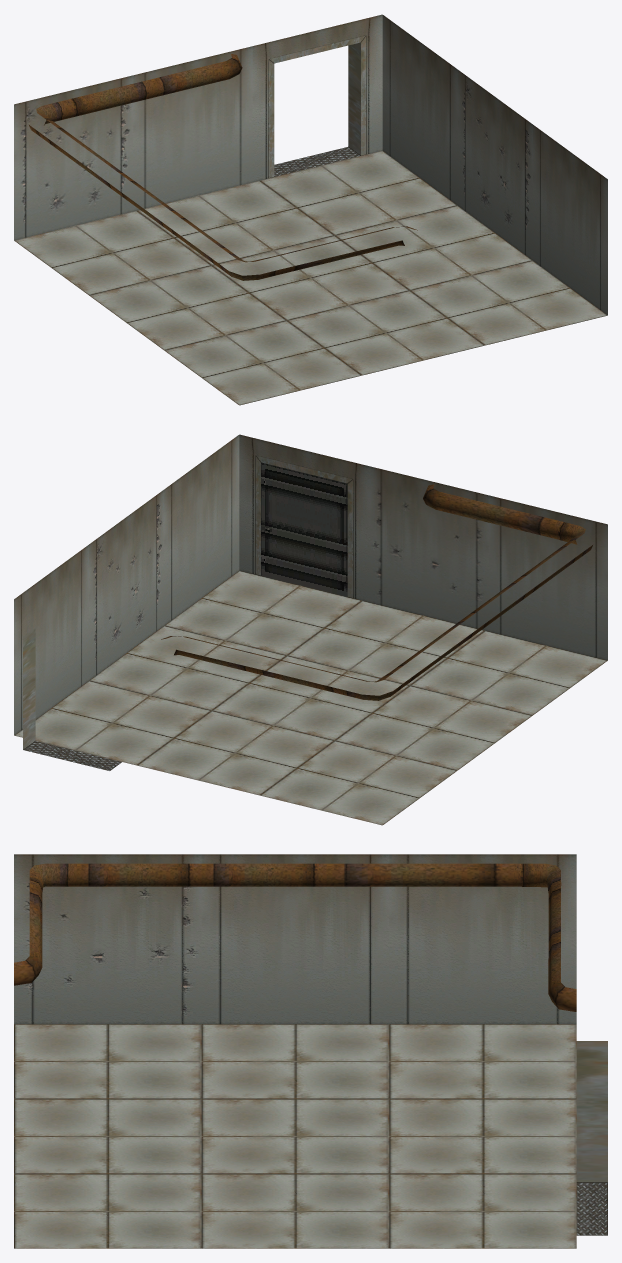
File: ControlTowerInt01C.glb
3 views of the same model, one above another, from view 1: azimuth 30°, elevation 25°; view 2: azimuth 150°, elevation 25°; view 3: azimuth 270°, elevation 25° (orthographic). The views are drawn at different scales.
Visible parts, largest first — view 1: CONTROLTOWERINT01C; view 2: CONTROLTOWERINT01C; view 3: CONTROLTOWERINT01C.
Boxes of the visible parts, x1=… form: CONTROLTOWERINT01C: x1=14, y1=14, x2=607, y2=405; CONTROLTOWERINT01C: x1=14, y1=434, x2=607, y2=825; CONTROLTOWERINT01C: x1=14, y1=854, x2=607, y2=1248.
Bounding box in the file's own units: 8.5 × 3 × 9.5.
Materials: 9 (9 with a texture image).
